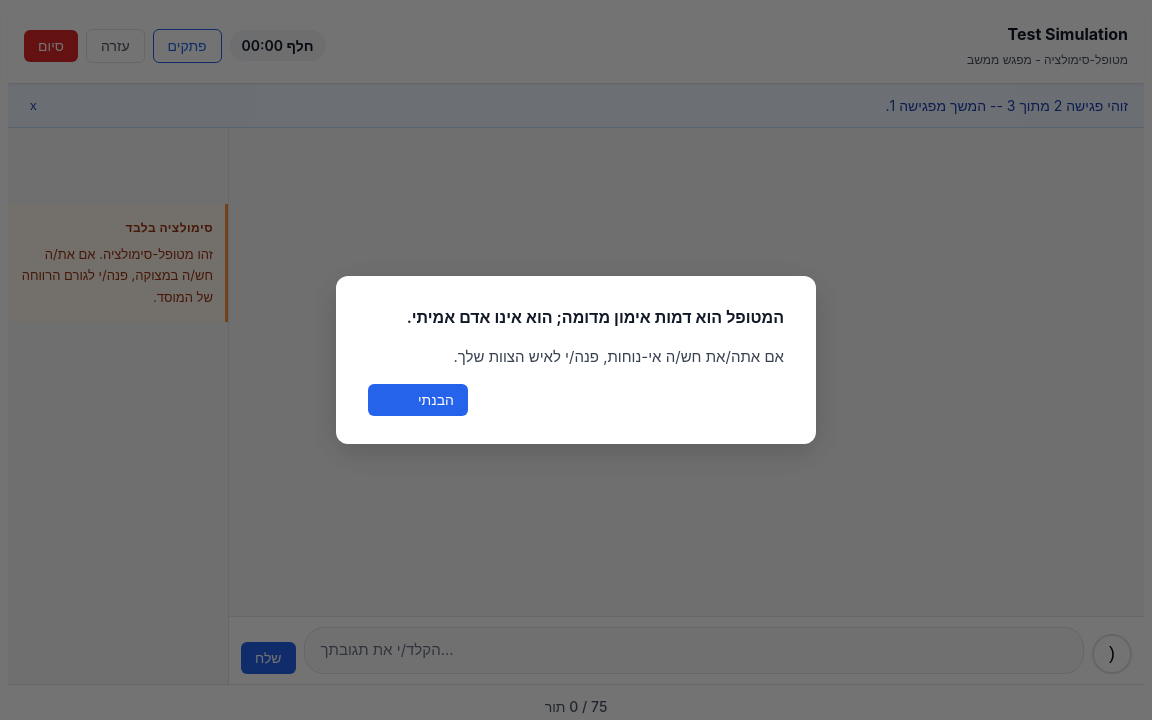
Test: session 2: context panel with correct N/max, welfare modal blocks chat, briefing after ack
expect the element with test id "arc-context-panel" is shown: met, box [8,84,1144,128]
expect the element with test id "arc-context-panel" shows "פגישה 2 מתוך 3": met, box [886,97,1128,114]
// (d) Ack the modal
Click the button "הבנתי": (418, 400) [368,384,468,416]
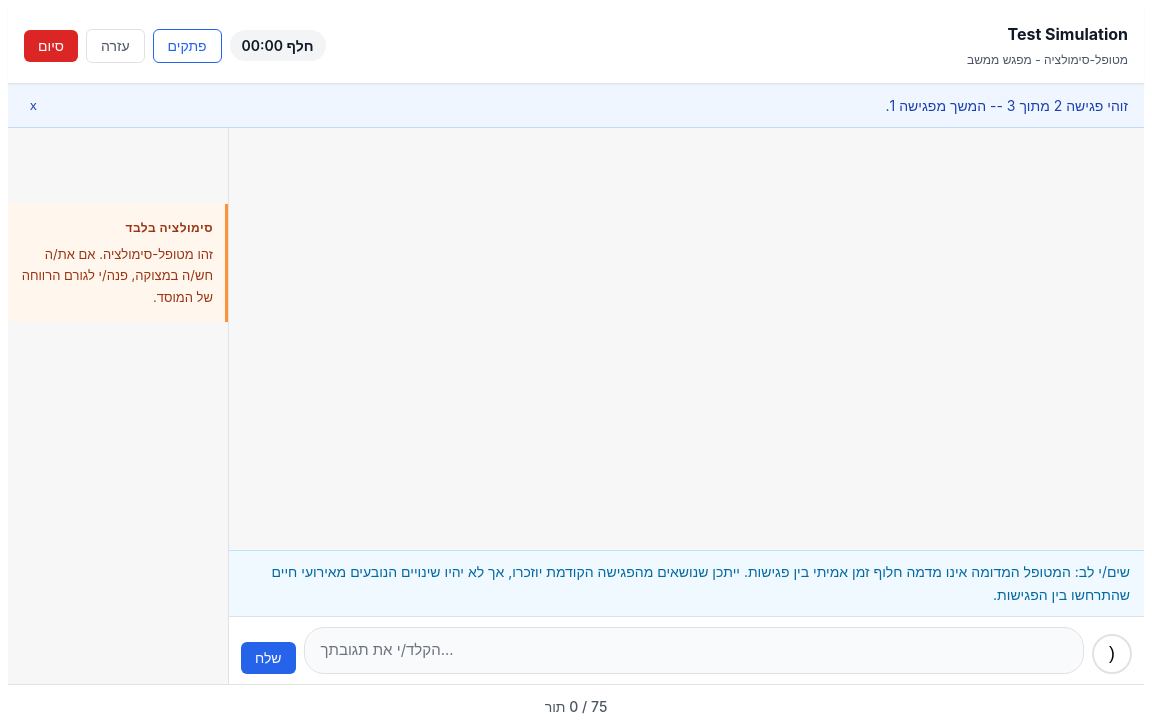
expect the dialog with test id "welfare-reanchor-modal" is gone: met
expect the element with test id "session-gap-briefing" is shown: met, box [229,550,1144,616]
